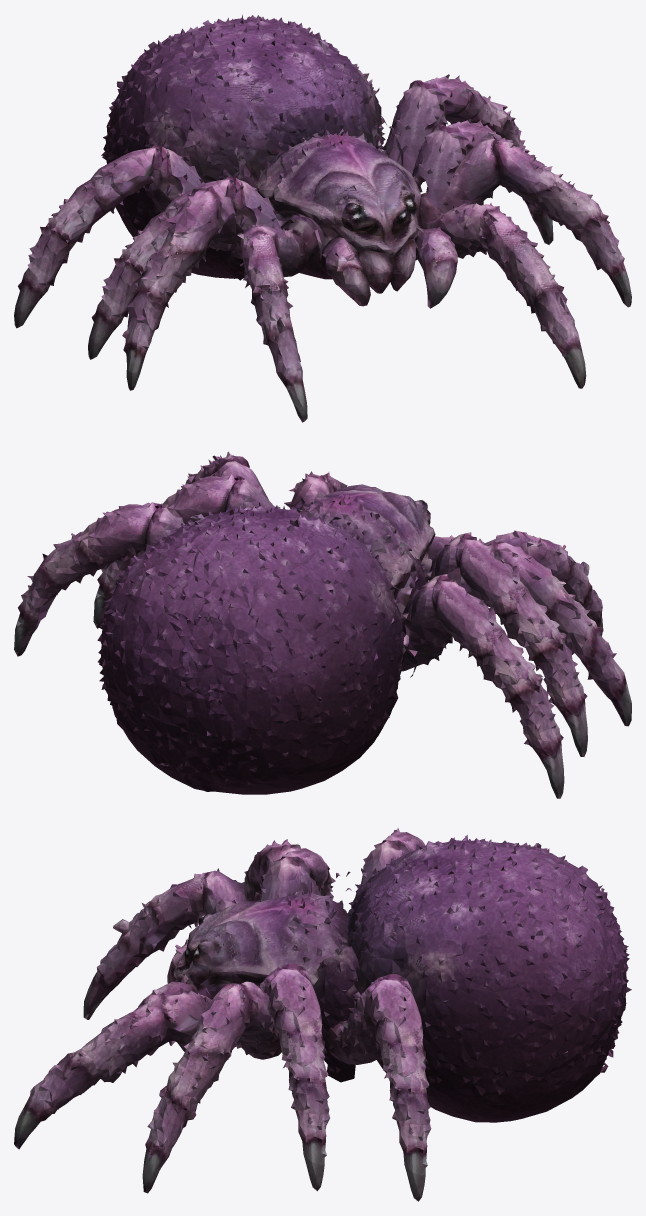
The model's file is kumo_brood.glb.
3 views of the same model, one above another, from view 1: azimuth 30°, elevation 25°; view 2: azimuth 150°, elevation 25°; view 3: azimuth 270°, elevation 25° (orthographic). The views are drawn at different scales.
Parts seen in each view (by area): view 1: temp_mesh.ply; view 2: temp_mesh.ply; view 3: temp_mesh.ply.
Boxes of the visible parts, bbox=[...] form: temp_mesh.ply: bbox=[14, 14, 631, 422]; temp_mesh.ply: bbox=[14, 451, 631, 798]; temp_mesh.ply: bbox=[14, 828, 631, 1201].
Bounding box in the file's own units: 1.98 × 0.8728 × 1.96.
1 material, 1 textured.
